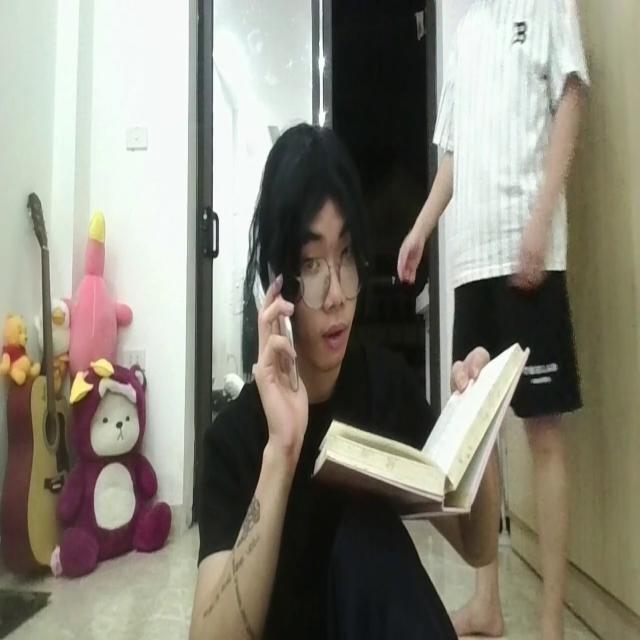book: (311, 337, 538, 532)
extra_person: (399, 0, 591, 640)
phone: (266, 243, 298, 410)
student: (190, 119, 501, 640)
